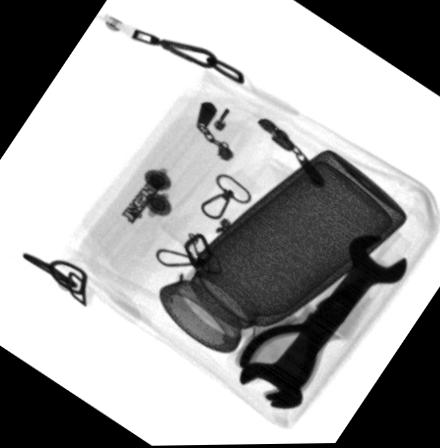Pliers: (239, 286, 355, 404)
Wrench: (239, 236, 406, 407)
